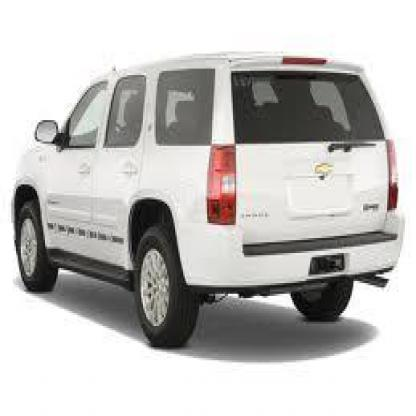Vehicle: (10, 56, 408, 354)
